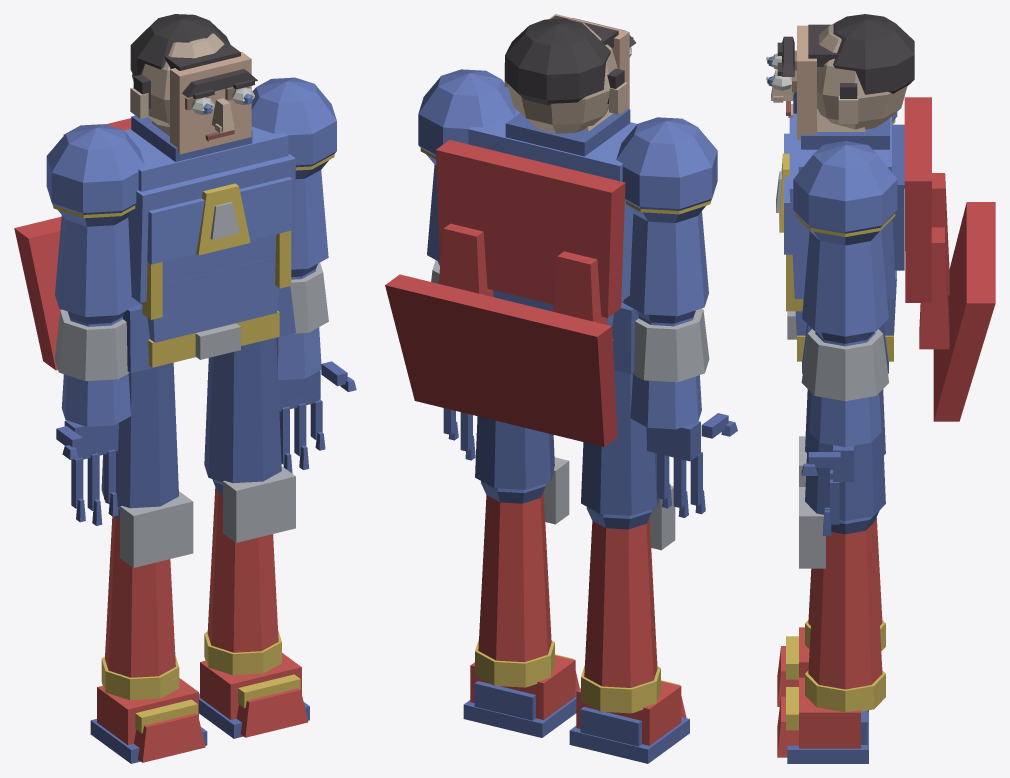
File: aegis.glb
3 renders of one model, left to right at view 1: azimuth 30°, elevation 25°; view 2: azimuth 150°, elevation 25°; view 3: azimuth 270°, elevation 25°, orthographic. The views are drawn at different scales.
Parts seen in each view (by area): view 1: torso, upperArmL, lowerLegL, lowerLegR, head, upperLegR, upperArmR, upperLegL, lowerArmL, footL, footR, hips (+4 smaller); view 2: cape, upperArmL, lowerLegR, lowerLegL, head, lowerArmL, torso, upperLegL, upperArmR, footL, footR, upperLegR (+3 smaller); view 3: cape, upperArmR, head, lowerLegR, torso, lowerArmR, footR, upperLegR, handR, footL, lowerLegL, hips.
Boxes of the visible parts, box(x1,y1,x2,y2) form: torso: box(124, 115, 295, 342); upperArmL: box(46, 124, 144, 324); lowerLegL: box(101, 491, 193, 700); lowerLegR: box(204, 466, 295, 675); head: box(130, 14, 257, 154); upperLegR: box(204, 338, 281, 494); upperArmR: box(251, 77, 336, 277); upperLegL: box(101, 302, 178, 519); lowerArmL: box(54, 309, 130, 426); footL: box(90, 678, 207, 763); footR: box(199, 653, 309, 738); hips: box(123, 286, 295, 373); cape: box(385, 140, 625, 446); upperArmL: box(616, 117, 717, 323); lowerLegR: box(475, 457, 569, 687); lowerLegL: box(581, 485, 675, 713); head: box(504, 14, 635, 133); lowerArmL: box(630, 308, 709, 429); torso: box(468, 109, 636, 325); upperLegL: box(581, 300, 659, 529); upperArmR: box(418, 69, 516, 265); footL: box(569, 680, 689, 763); footR: box(463, 654, 579, 737); upperLegR: box(475, 416, 554, 503); cape: box(904, 97, 995, 421); upperArmR: box(793, 141, 897, 343); head: box(766, 14, 914, 139); lowerLegR: box(799, 487, 885, 712); torso: box(776, 113, 904, 335); lowerArmR: box(801, 329, 888, 447); footR: box(777, 677, 868, 763); upperLegR: box(805, 391, 885, 534); handR: box(801, 445, 853, 535); footL: box(777, 627, 868, 712); lowerLegL: box(799, 436, 885, 650); hips: box(787, 311, 893, 373).
Bounding box in the file's own units: 0.7435 × 1.72 × 0.5111.
